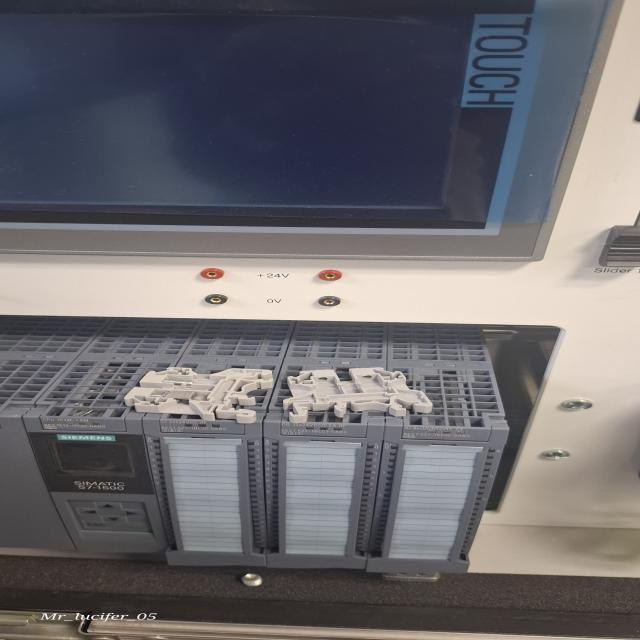Reject: (279, 366, 436, 424), (121, 366, 276, 424)
